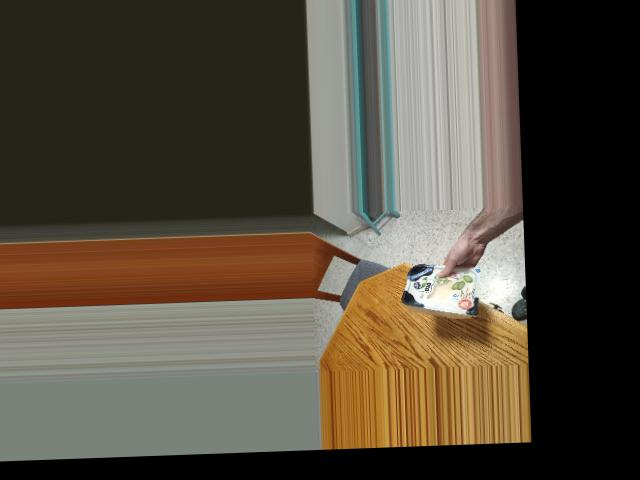cheese: (398, 258, 486, 310)
